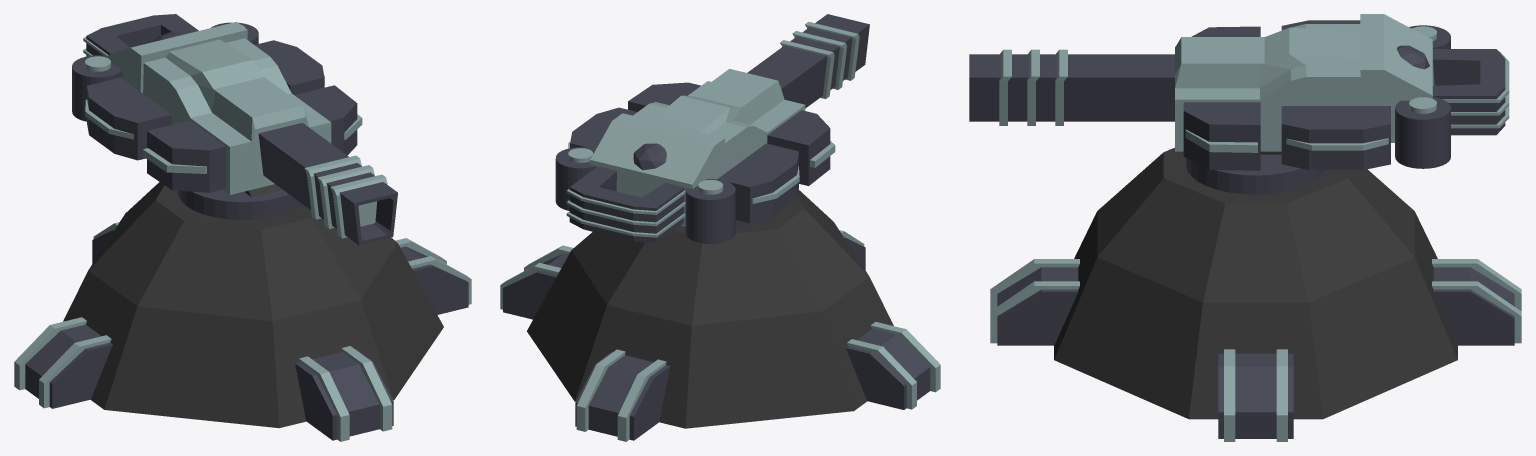
File: Turm 20.fbx
The picture shows the model from 3 angles, left to right: view 1: azimuth 30°, elevation 25°; view 2: azimuth 150°, elevation 25°; view 3: azimuth 270°, elevation 25°; orthographic projection. The views are drawn at different scales.
Visible parts, largest first — view 1: Cube.017, Cube.002; view 2: Cube.017, Cube.002; view 3: Cube.017, Cube.002.
Part boxes in pixels (x1,y1,x2,y2): Cube.017: (14,182,471,441); Cube.002: (72,14,397,245); Cube.017: (500,190,940,441); Cube.002: (555,14,869,243); Cube.017: (990,147,1521,441); Cube.002: (969,14,1509,194).
Size of the model in its own units: 380 by 228 by 395.
